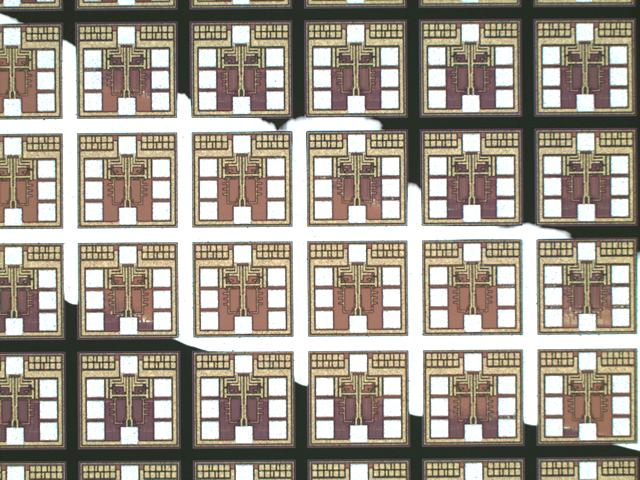COATING BAD: (1, 11, 640, 457)
